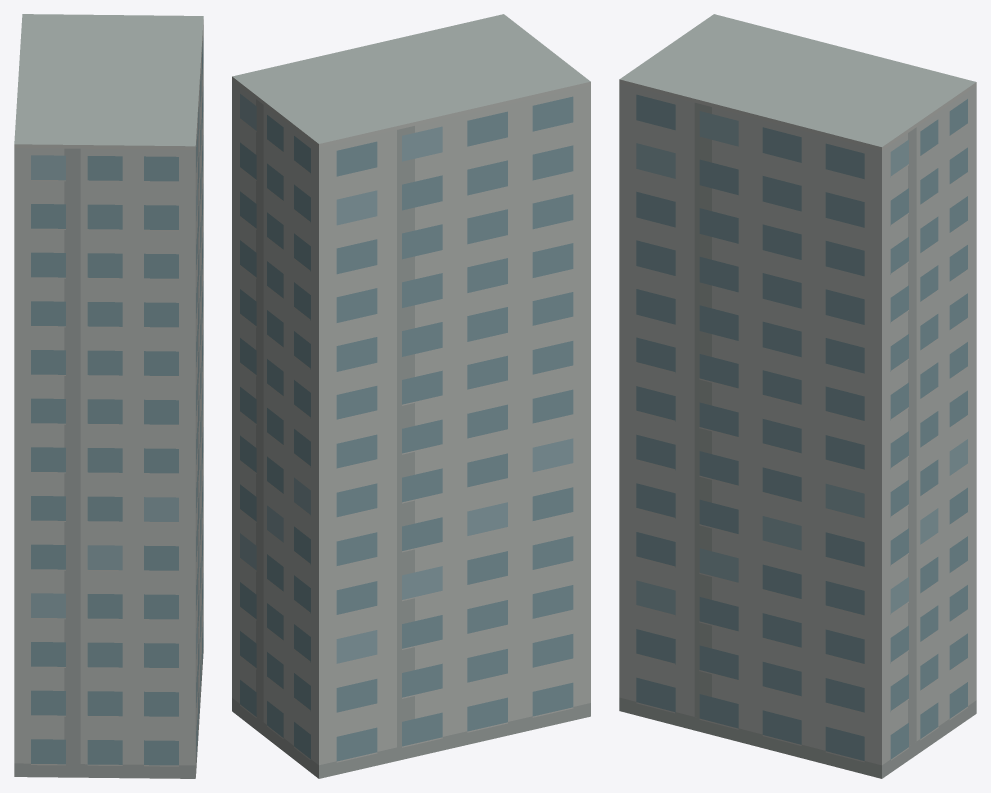
The model's file is residential-6724b5b2-8650-415c-b6dd-4f8490223a65.glb.
3 views of the same model, side by side, from view 1: azimuth 30°, elevation 25°; view 2: azimuth 150°, elevation 25°; view 3: azimuth 270°, elevation 25° (orthographic).
Visible parts, largest first — view 1: residential-6724b5b2-8650-415c-b6dd-4f8490223a65.tmp; view 2: residential-6724b5b2-8650-415c-b6dd-4f8490223a65.tmp; view 3: residential-6724b5b2-8650-415c-b6dd-4f8490223a65.tmp.
Part boxes in pixels (bbox=[...]): residential-6724b5b2-8650-415c-b6dd-4f8490223a65.tmp: bbox=[14, 14, 203, 778]; residential-6724b5b2-8650-415c-b6dd-4f8490223a65.tmp: bbox=[232, 14, 590, 778]; residential-6724b5b2-8650-415c-b6dd-4f8490223a65.tmp: bbox=[619, 14, 976, 778].
Size of the model in its own units: 18.56 by 41 by 21.02.
